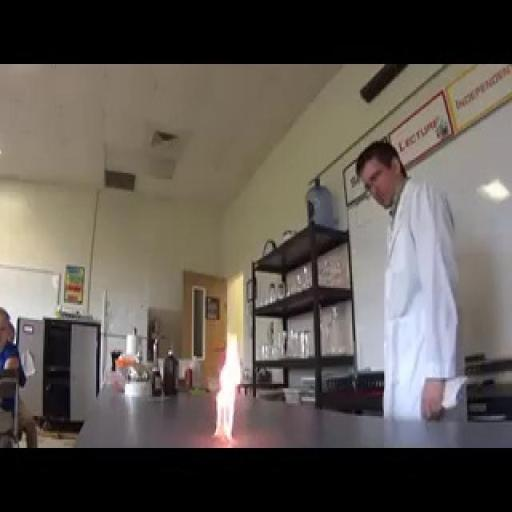smoke: (204, 339, 249, 442)
